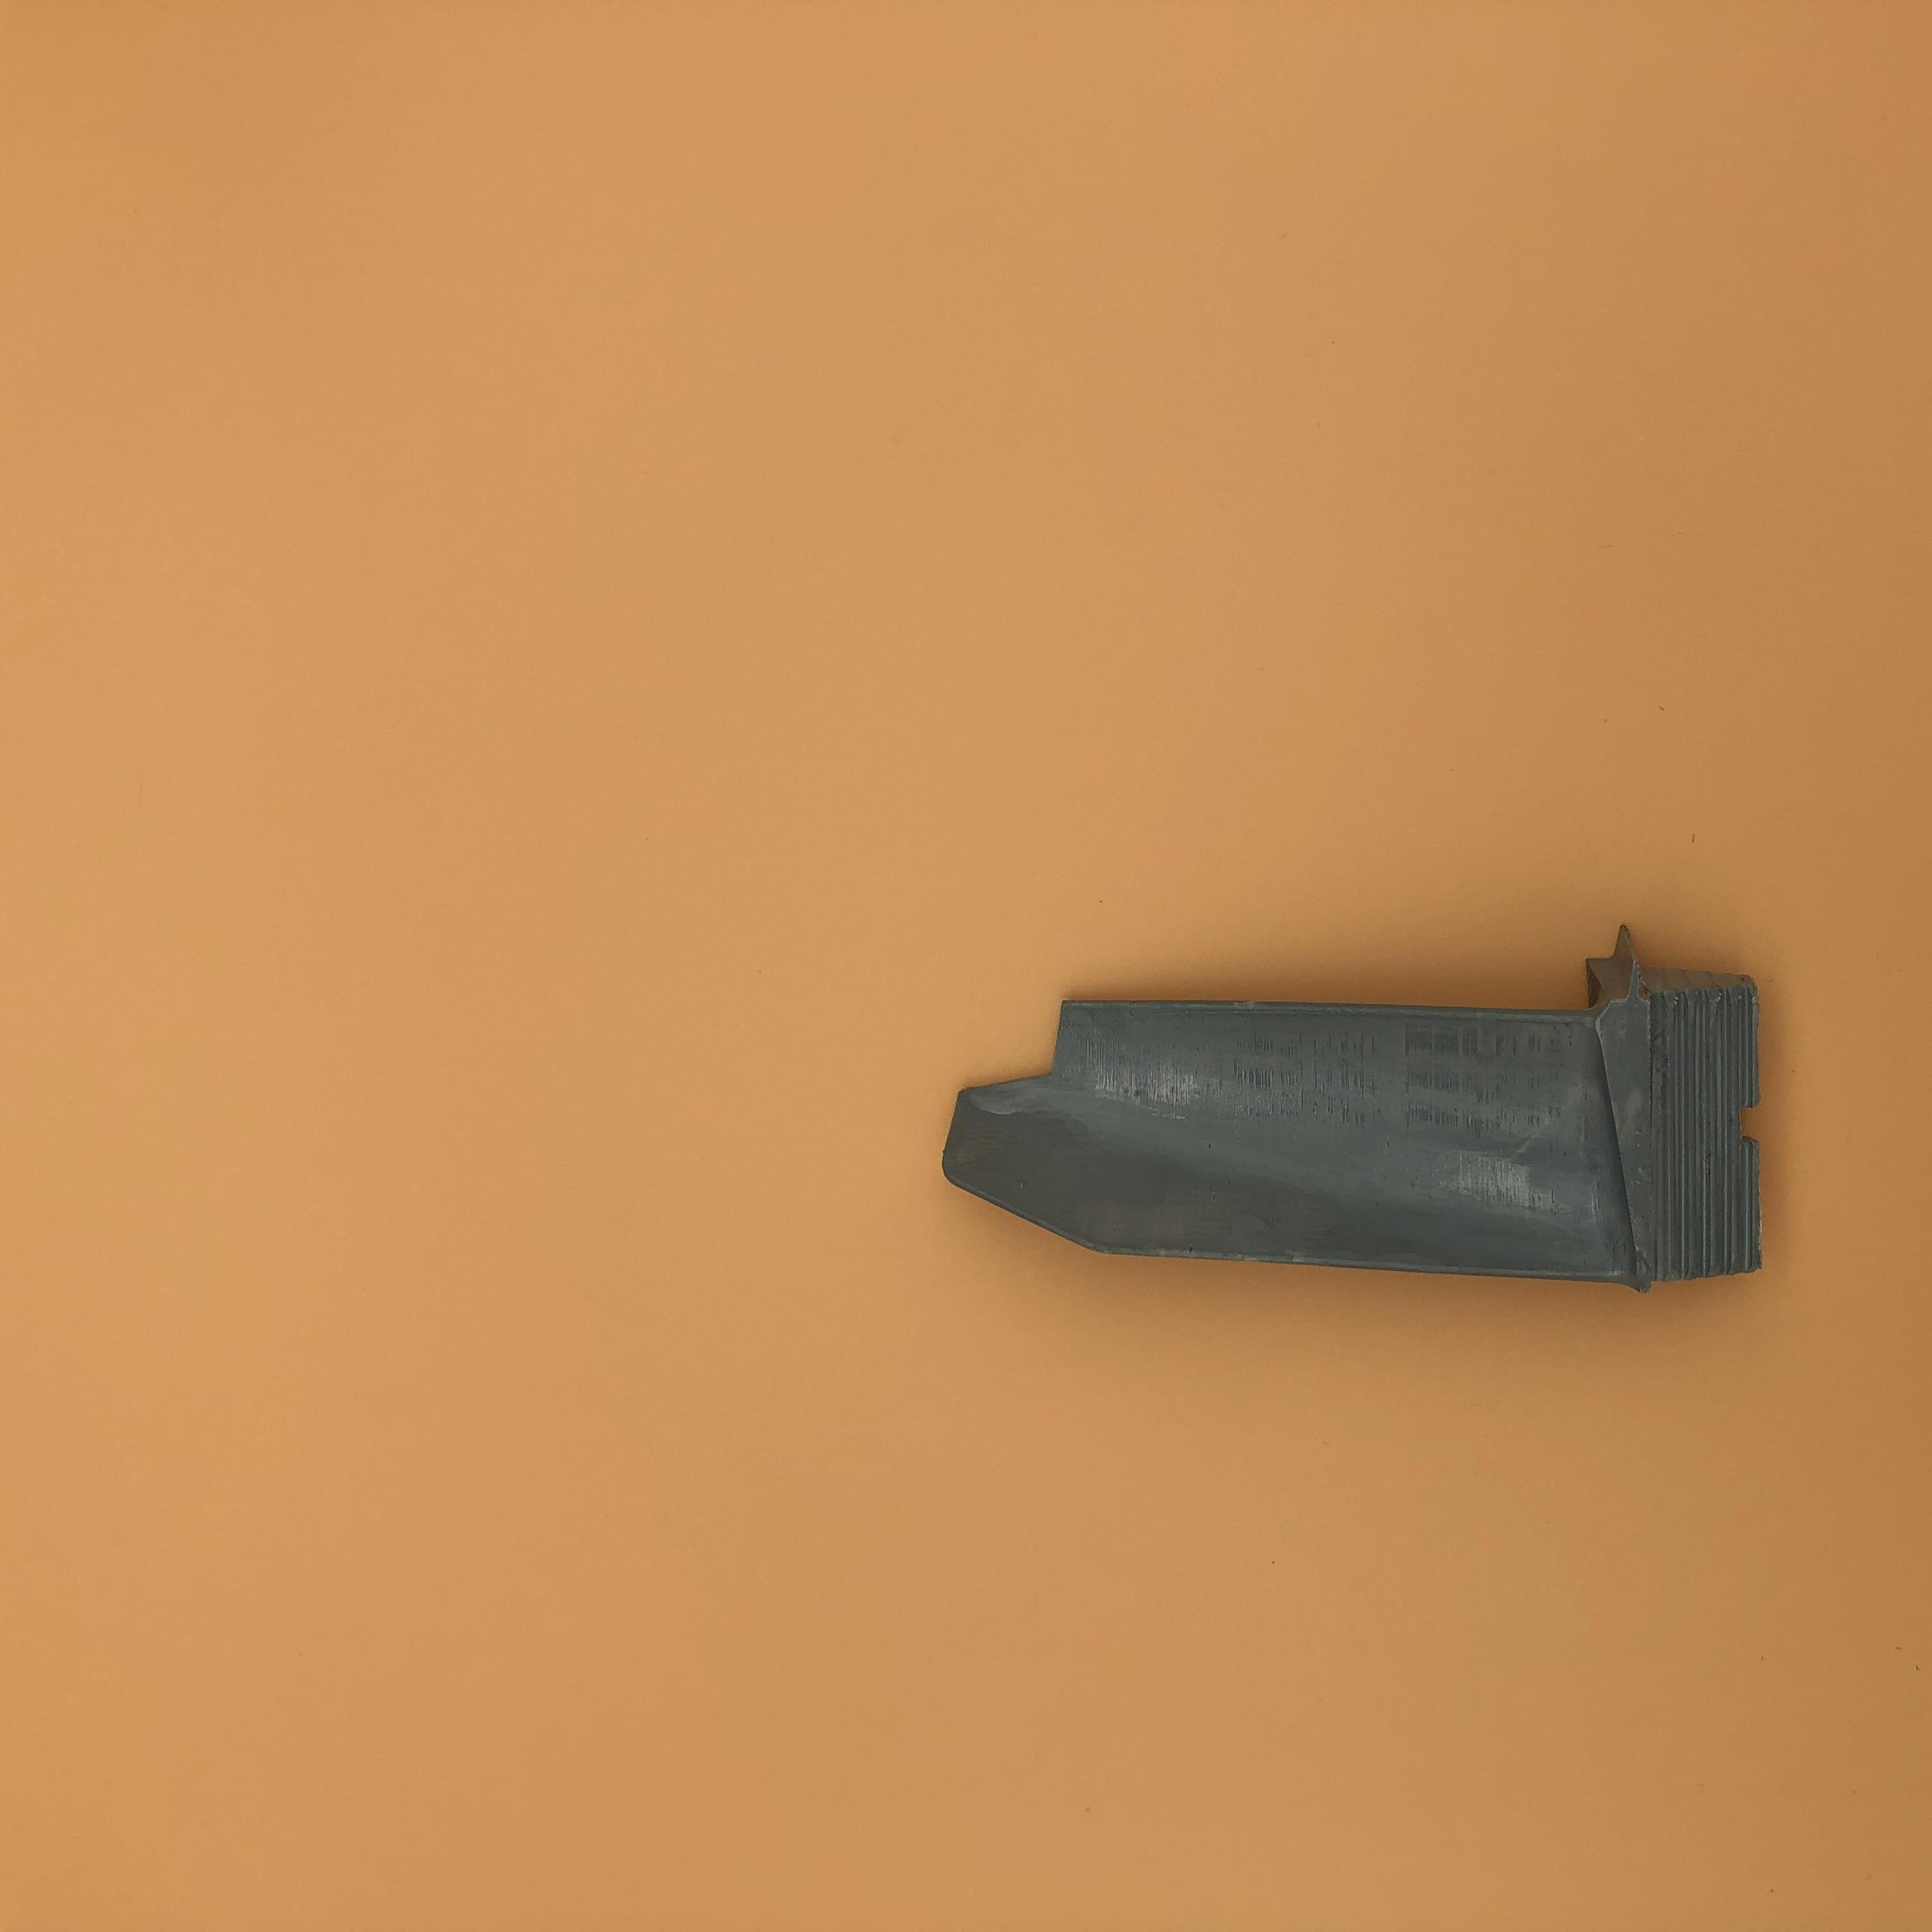fracture: (952, 1023, 1146, 1104)
